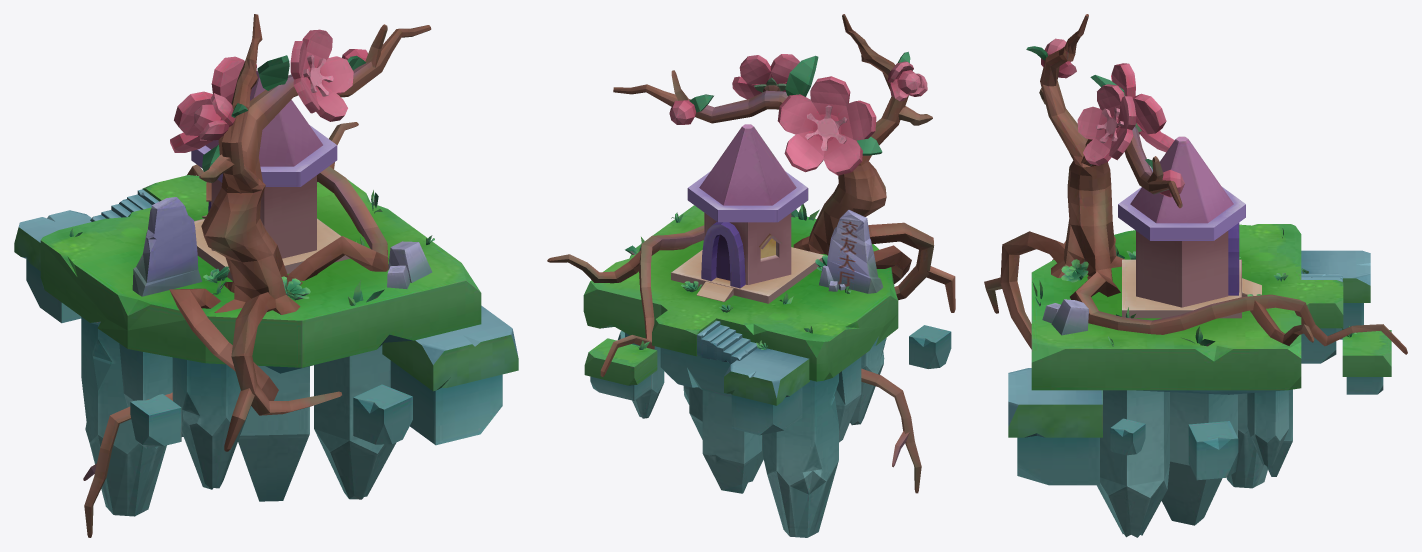
Rendered from taohuadao.FBX.
The picture shows the model from 3 angles, left to right: view 1: azimuth 30°, elevation 25°; view 2: azimuth 150°, elevation 25°; view 3: azimuth 270°, elevation 25°; orthographic projection. The views are drawn at different scales.
Visible parts, largest first — view 1: default; view 2: default; view 3: default.
Part boxes in pixels (<box>): default: <box>14,14,518,537</box>; default: <box>547,14,955,537</box>; default: <box>984,14,1407,537</box>.
Size of the model in its own units: 39798 by 57541 by 45787.
